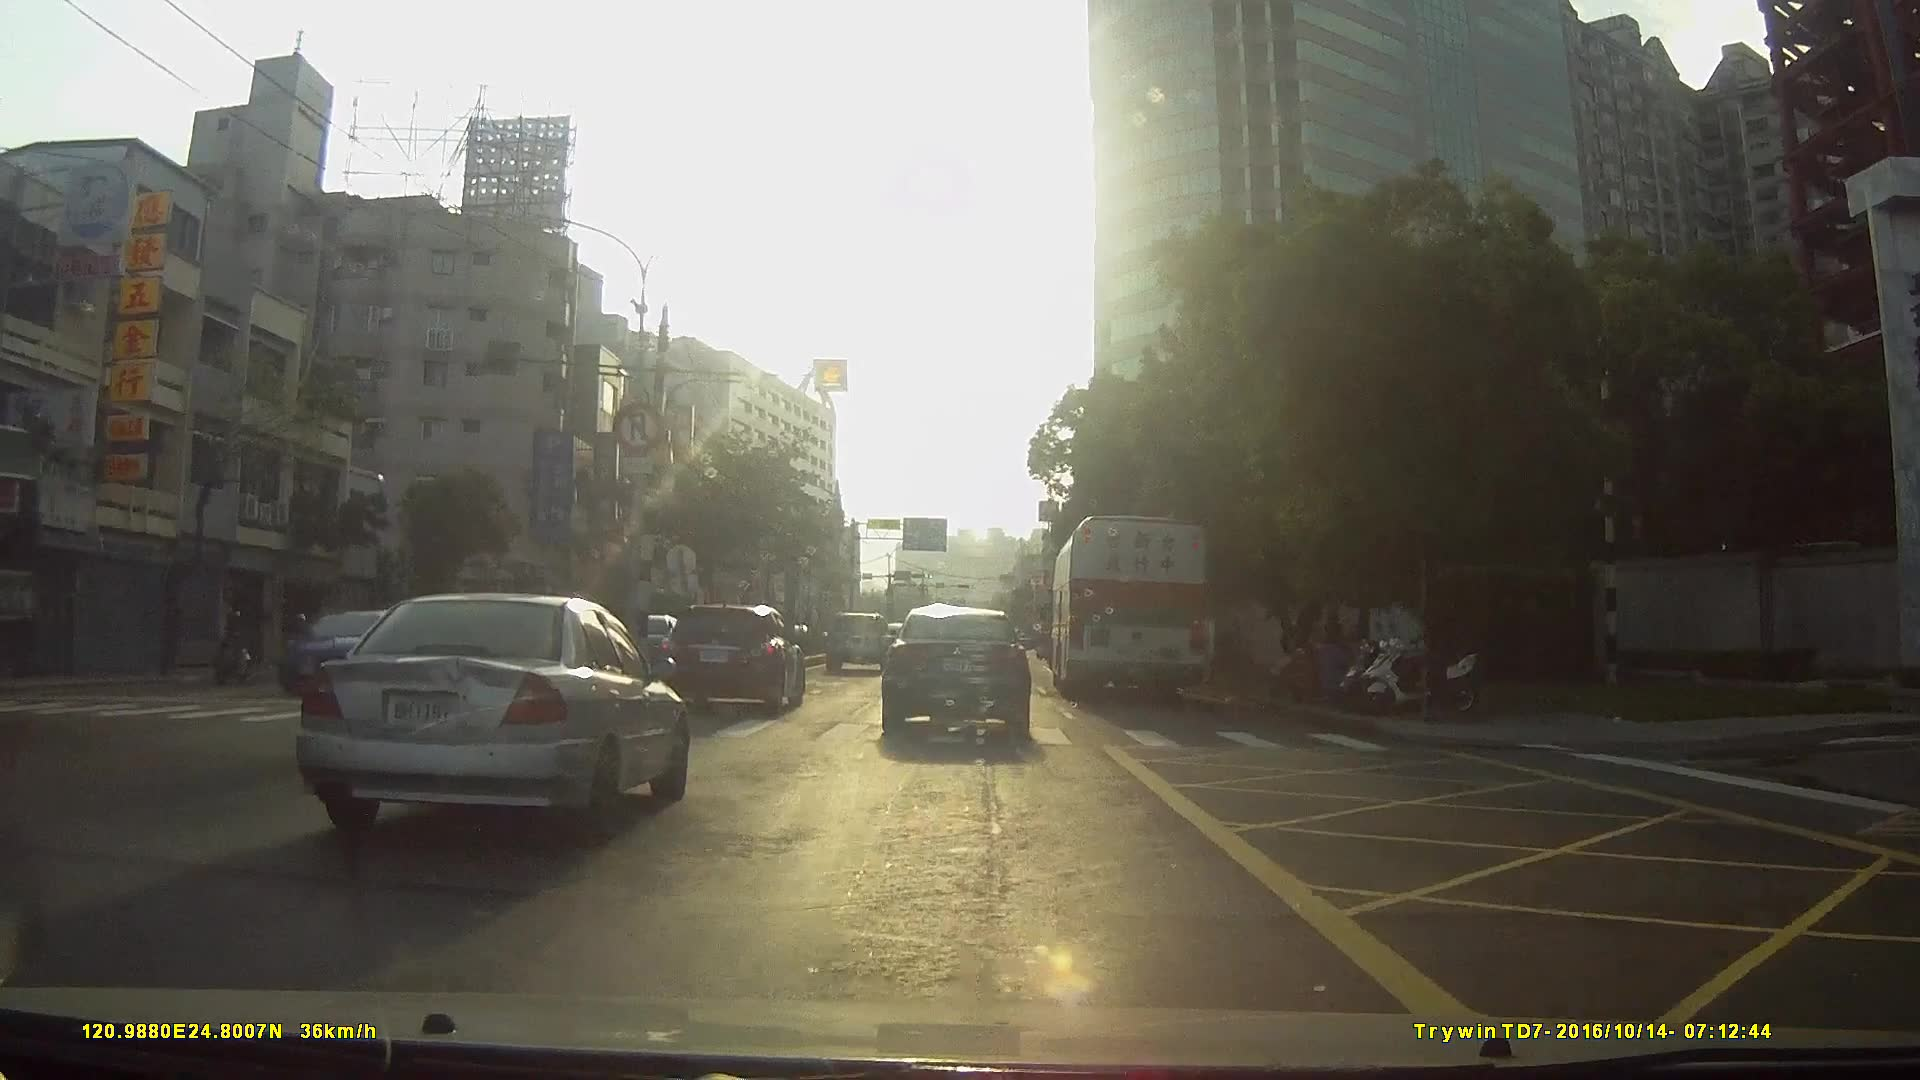rider: (215, 608, 258, 681)
vehicle: (287, 590, 688, 839), (1050, 511, 1212, 708), (881, 606, 1034, 745), (664, 604, 809, 717), (272, 605, 420, 712), (823, 613, 894, 678)
